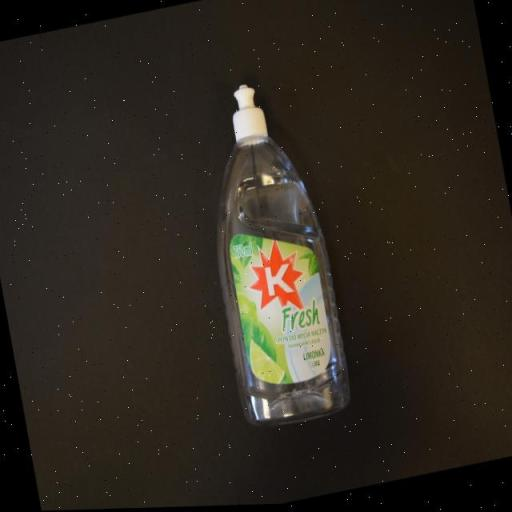plastic: (188, 71, 355, 438)
